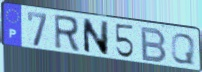5: (114, 22, 136, 59)
7: (26, 11, 49, 48)
B: (140, 26, 169, 64)
N: (81, 17, 111, 57)
Q: (170, 32, 197, 67)
R: (53, 13, 82, 54)
